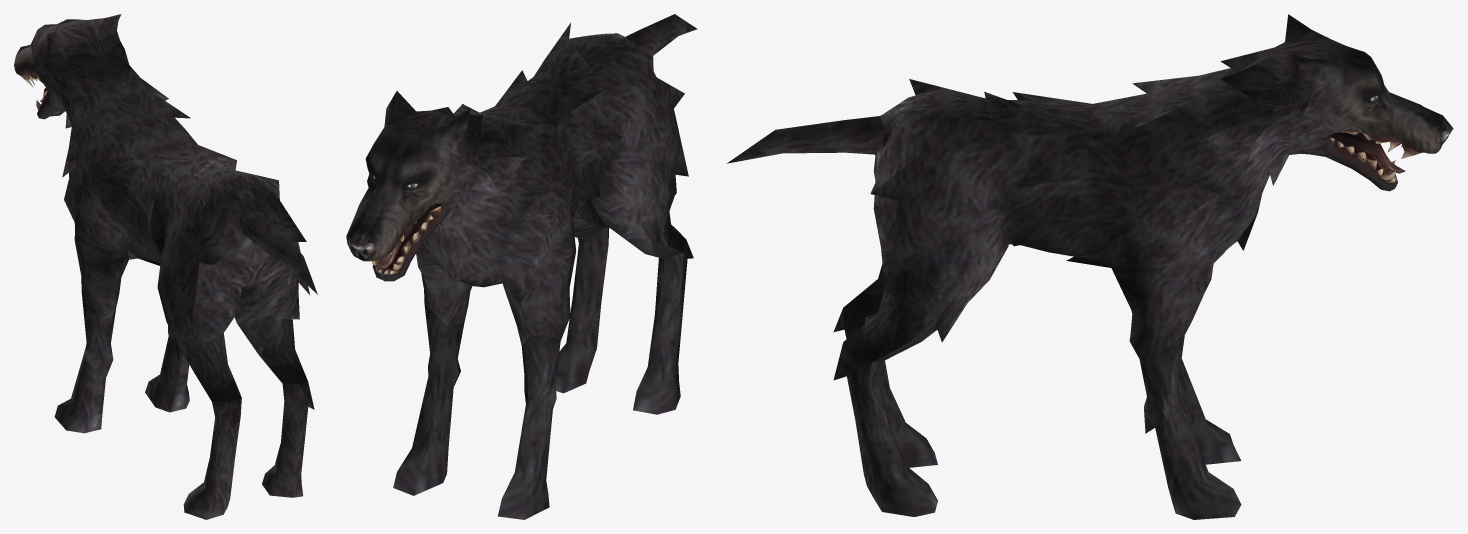
Rendered from dog.glb.
3 views of the same model, side by side, from view 1: azimuth 30°, elevation 25°; view 2: azimuth 150°, elevation 25°; view 3: azimuth 270°, elevation 25° (orthographic). The views are drawn at different scales.
Parts seen in each view (by area): view 1: material_0; view 2: material_0; view 3: material_0.
Boxes of the visible parts, bbox=[...] form: material_0: bbox=[14, 14, 317, 519]; material_0: bbox=[346, 14, 697, 519]; material_0: bbox=[727, 14, 1453, 519].
Bounding box in the file's own units: 0.3989 × 1.06 × 1.55.
Materials: 1 (1 with a texture image).
